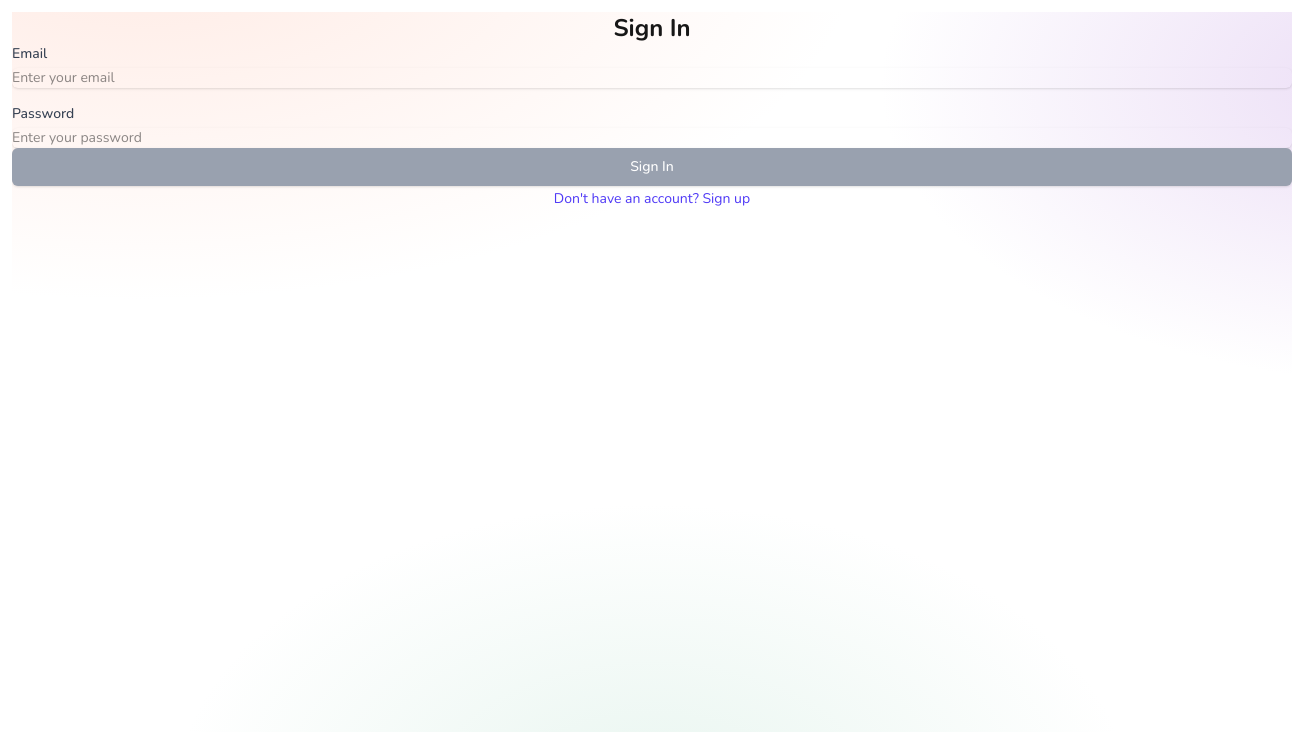
Test: AuthForm Compound Component › Form Validation › should show validation error when fields are missing
Type "test@example.com" into the field with test id "email-input" at [652, 78], box [12,68,1292,88]
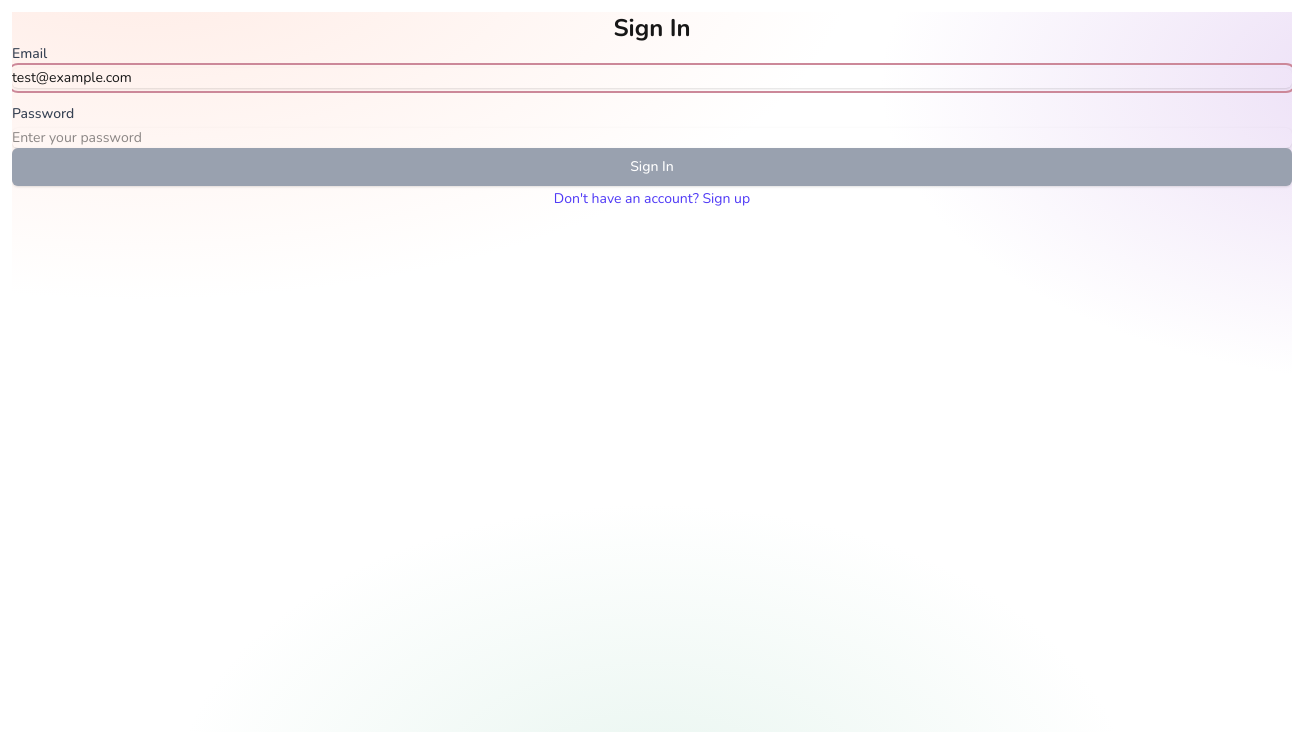
Type "wrongpassword" into the password field with test id "password-input" at [652, 138], box [12,128,1292,148]
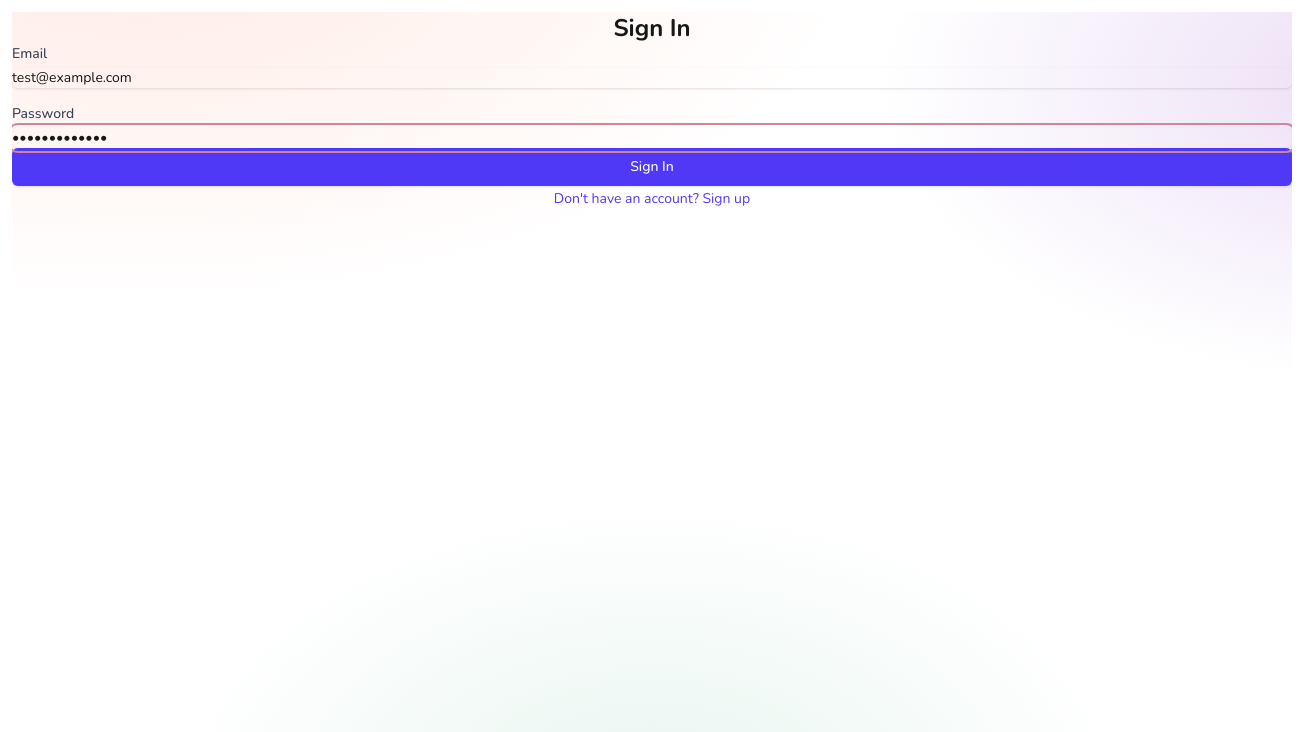
Expected: the button with test id "submit-button" is enabled
// Submit form - should show auth error (proves error display works)
Click the button with test id "submit-button" at [652, 167], box [12,148,1292,186]
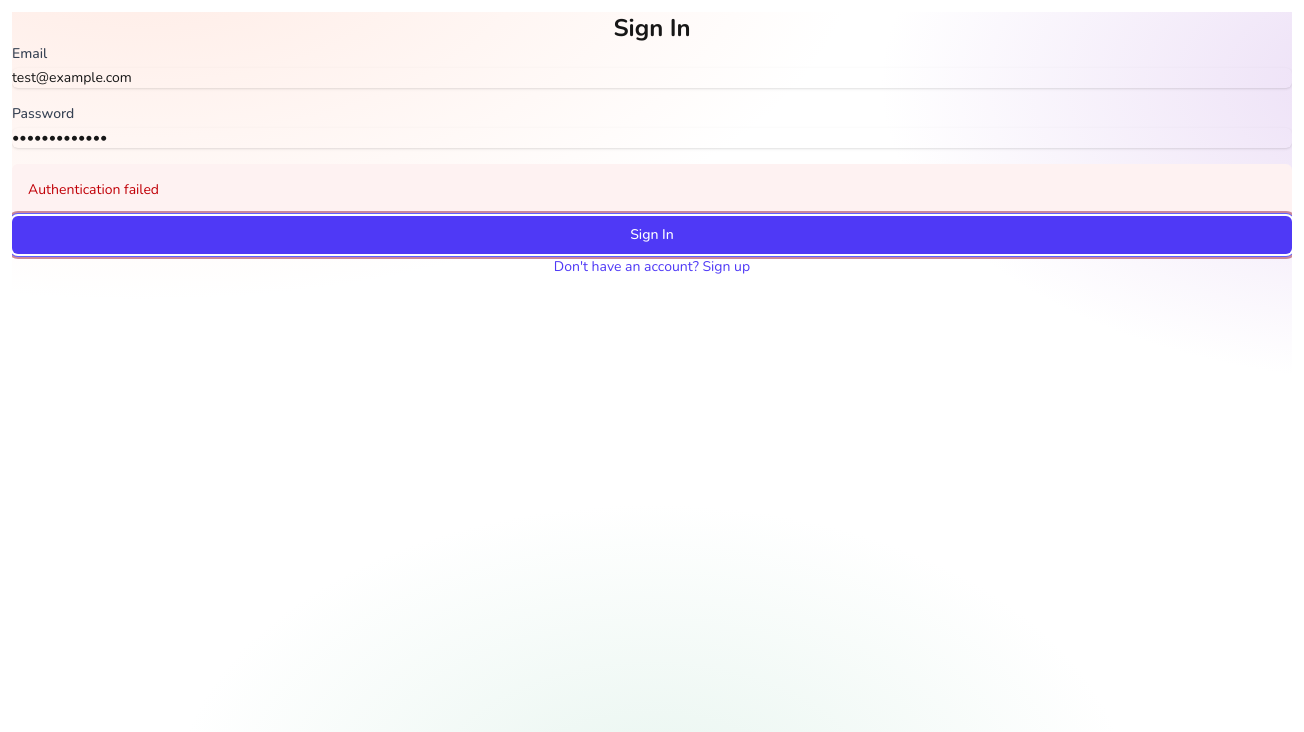
Expected: the element with test id "error-message" is shown, [12,164,1292,216]
Expected: the text "Authentication failed" is shown, [28,180,159,199]
